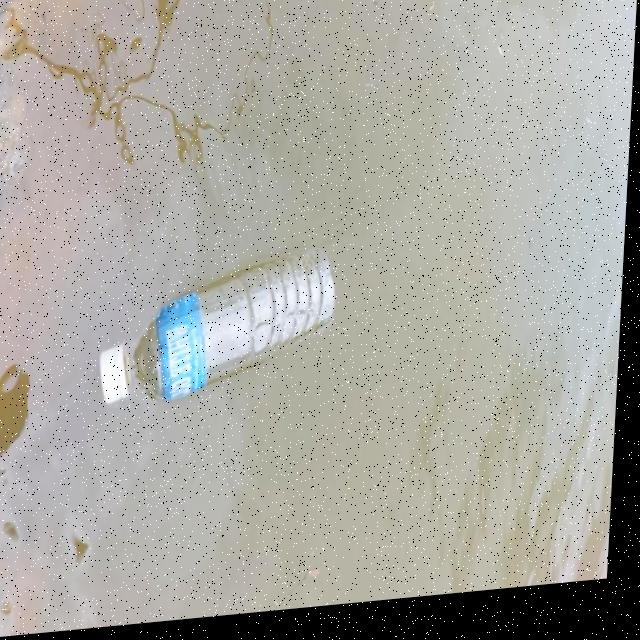waterbottle: (99, 256, 343, 442)
